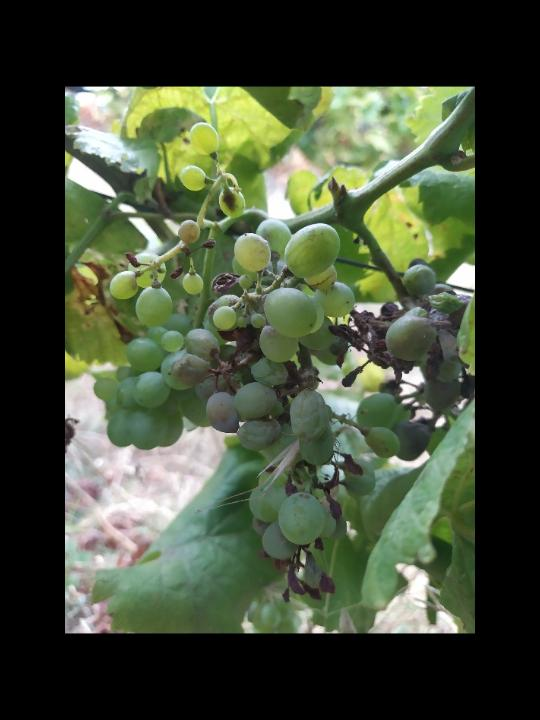grape: (108, 219, 359, 607)
